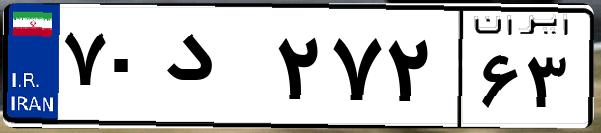0: (110, 28, 158, 98)
2: (270, 28, 330, 110), (385, 28, 445, 110)
3: (525, 38, 570, 115)
6: (475, 38, 525, 113)
7: (330, 28, 385, 110), (57, 26, 110, 100)
د: (158, 20, 270, 120)
